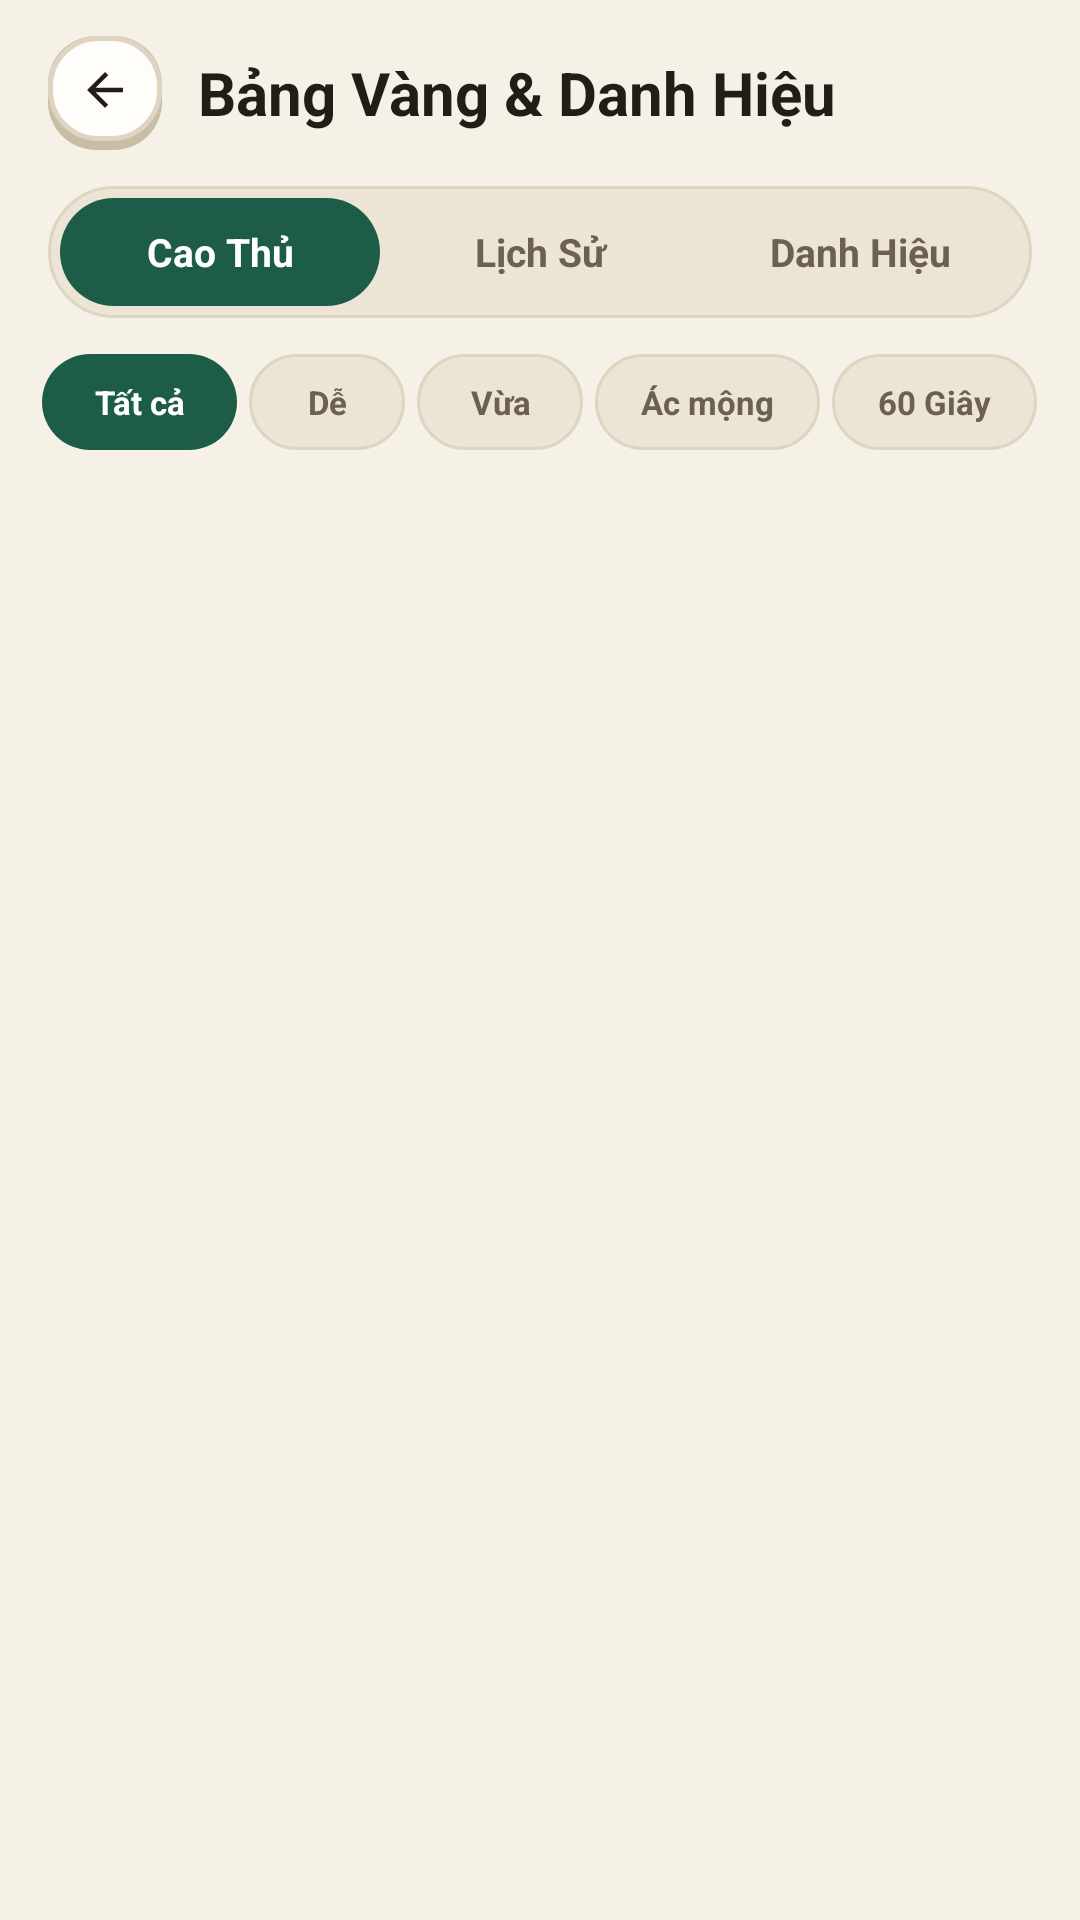

Where to tap for icons on this 1080px×1920px app screen, as (x,y):
arrow back: (105,90)
